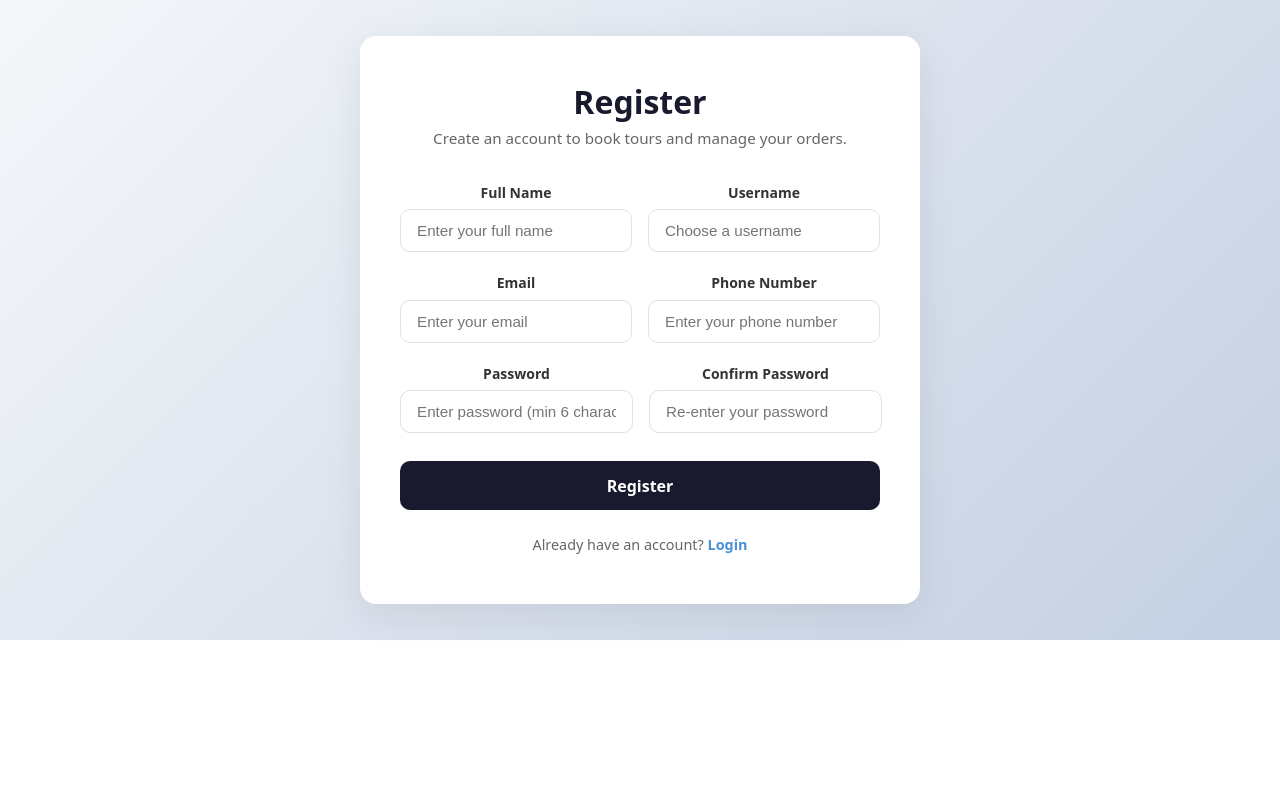
Test: Register page › should display API error message on failure
This screenshot has width=1280, height=800.
Type "Test" into the field with placeholder "Enter your full name".
click(516, 231); type("Test")  # box [400,209,632,252]
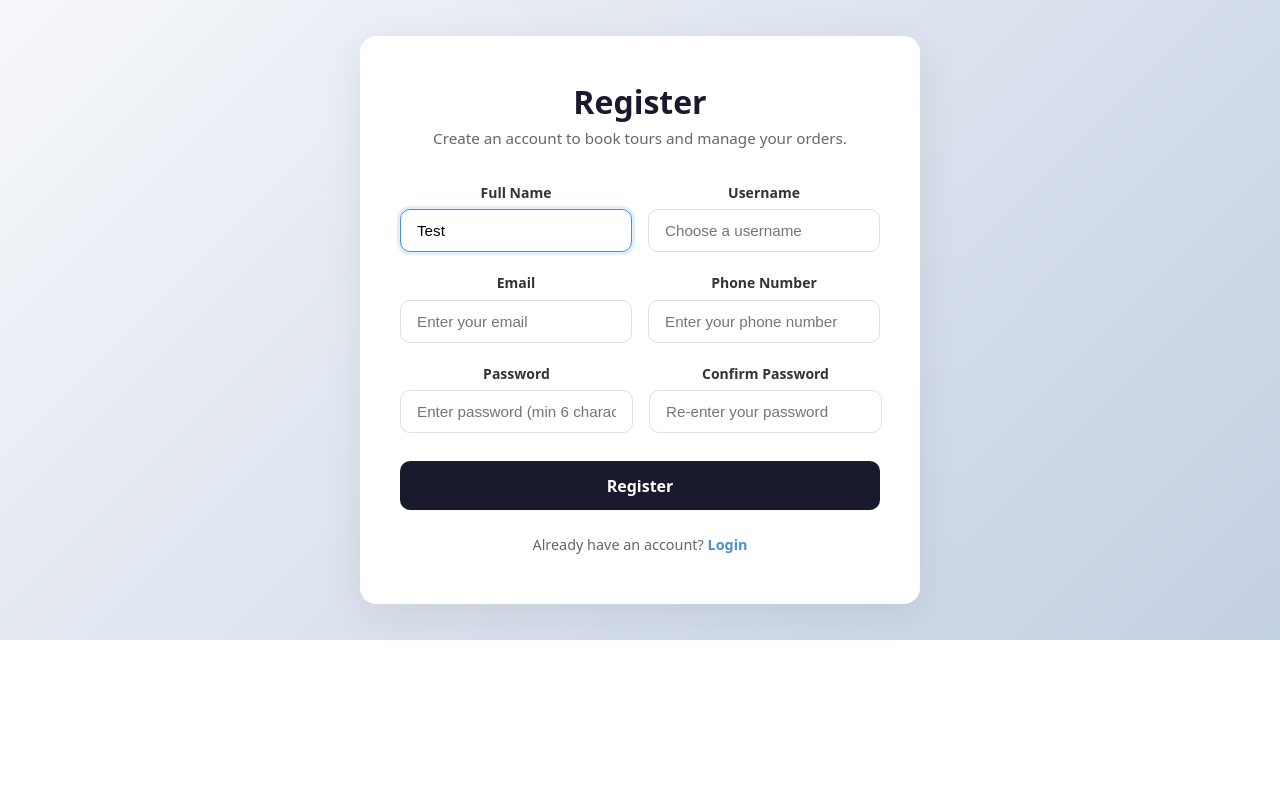
Type "test" into the field with placeholder "Choose a username".
click(764, 231); type("test")  # box [648,209,880,252]
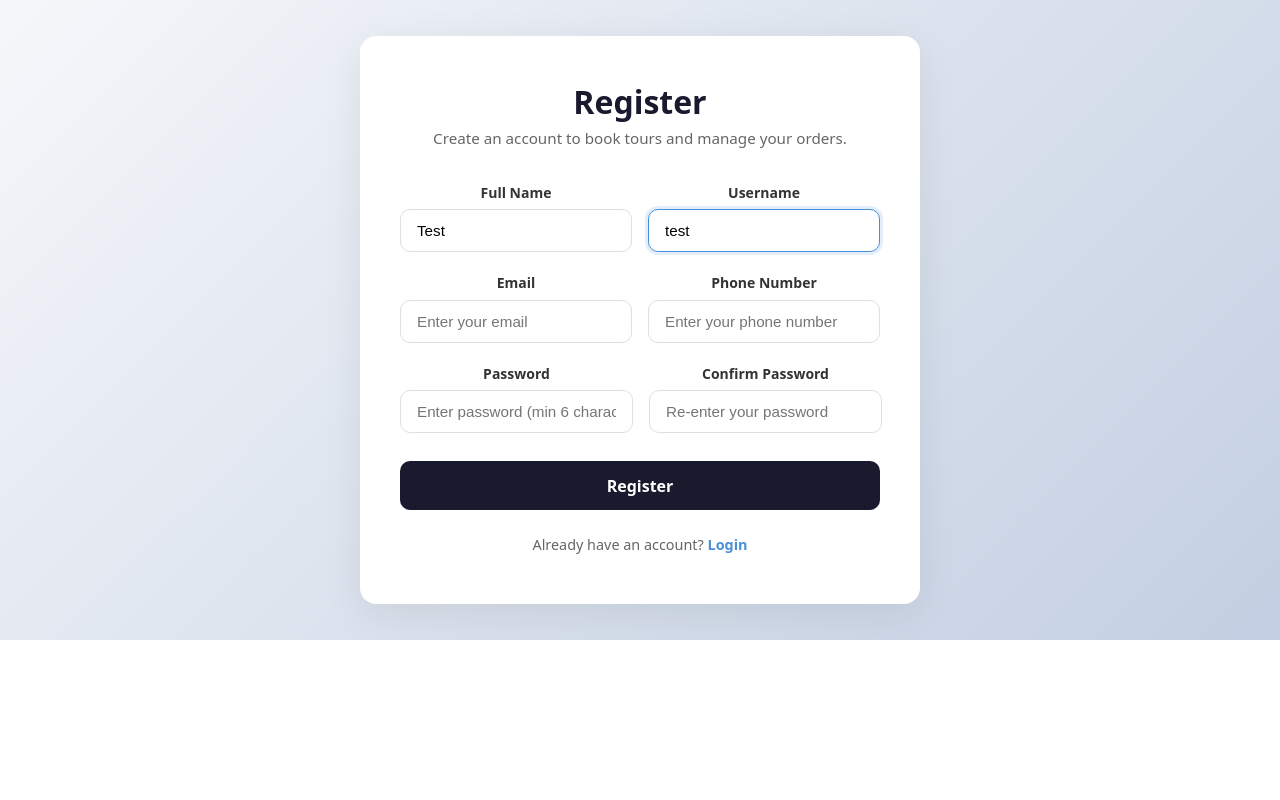
Type "t@t.com" into the field with placeholder "Enter your email".
click(516, 321); type("t@t.com")  # box [400,300,632,343]
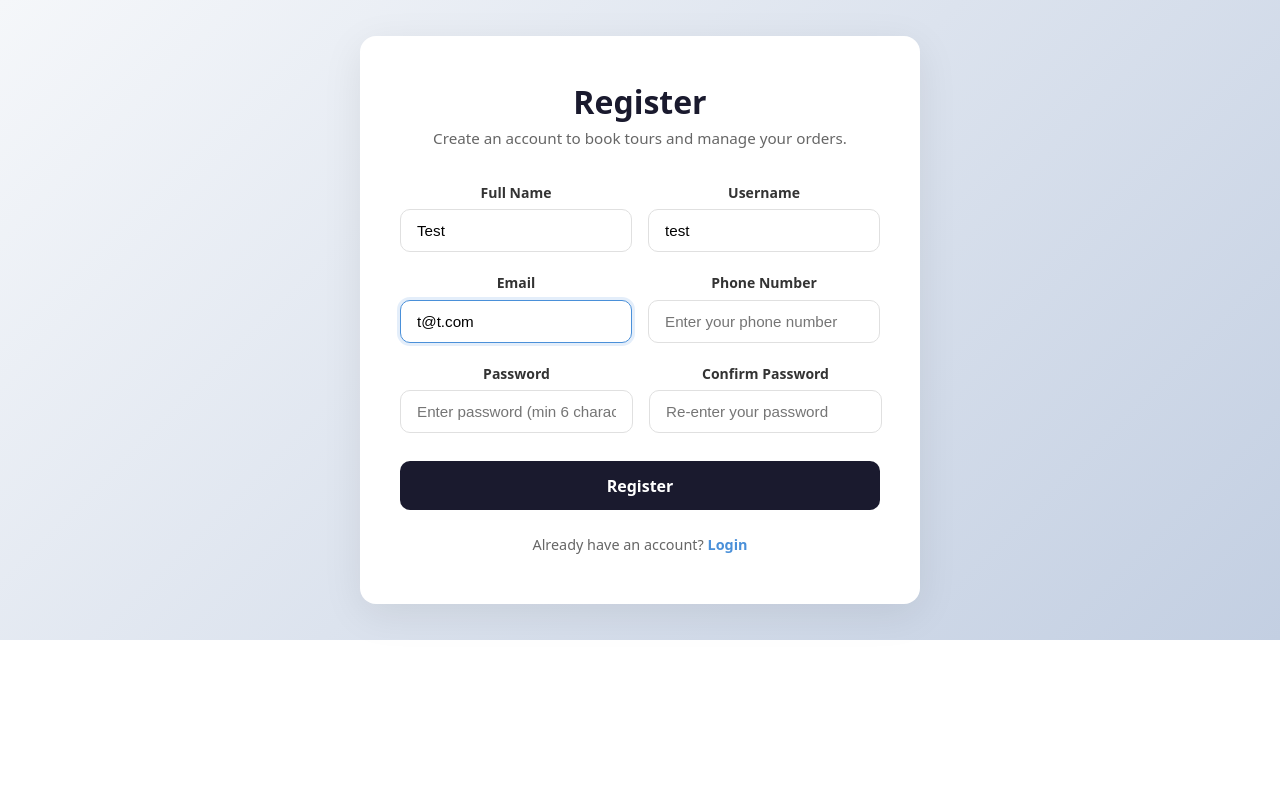
Type "pass123" into the password field with placeholder "Enter password (min 6 characters)".
click(516, 412); type("pass123")  # box [400,390,633,433]
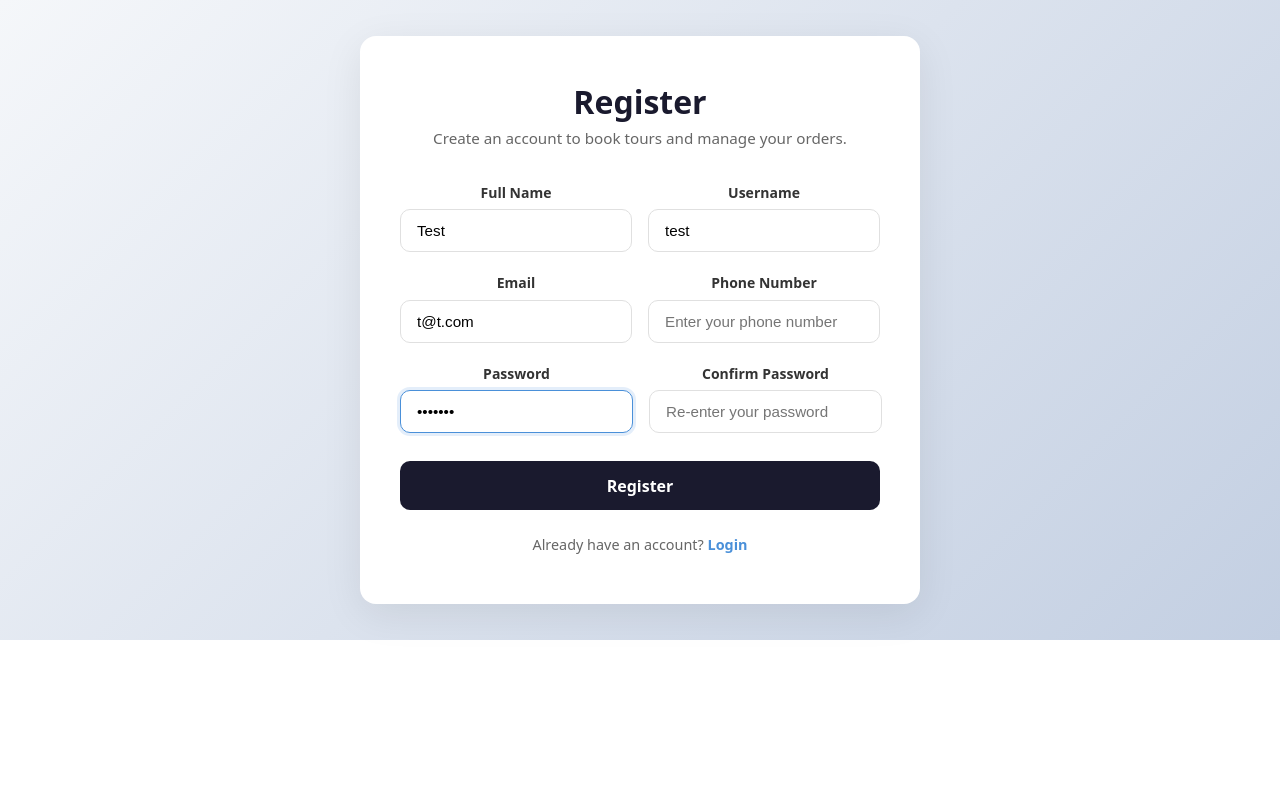
Type "pass123" into the password field with placeholder "Re-enter your password".
click(766, 412); type("pass123")  # box [649,390,882,433]
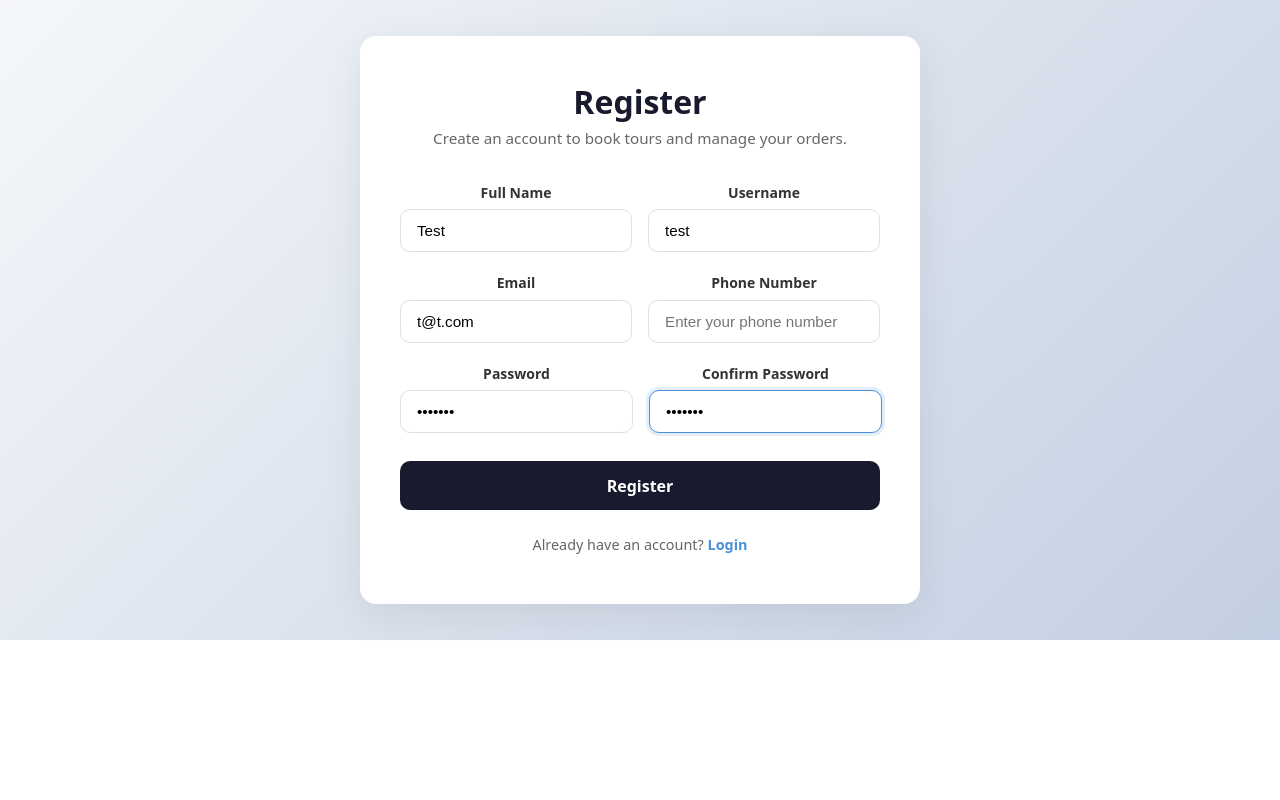
Click the button "Register".
click(640, 486)  # box [400,461,880,510]
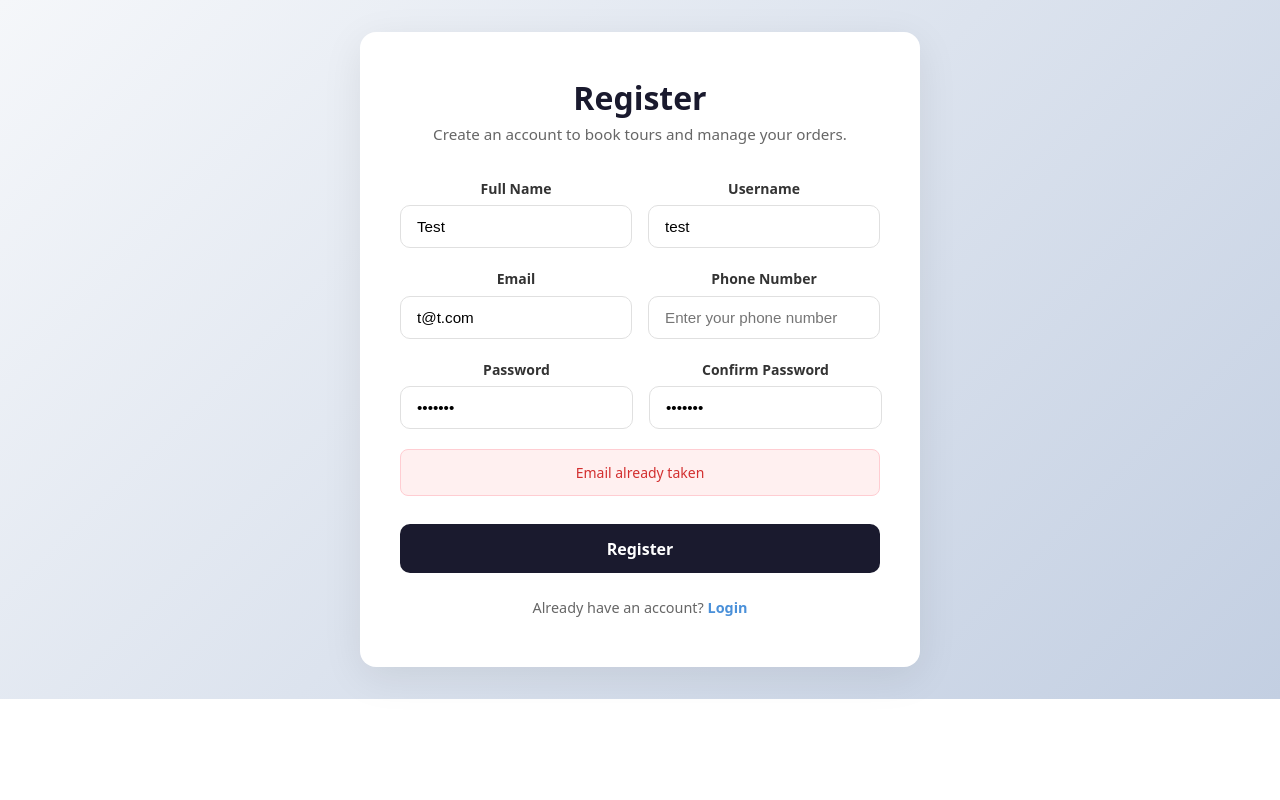
Check: the text "Email already taken" is shown, box [400,449,880,496]
